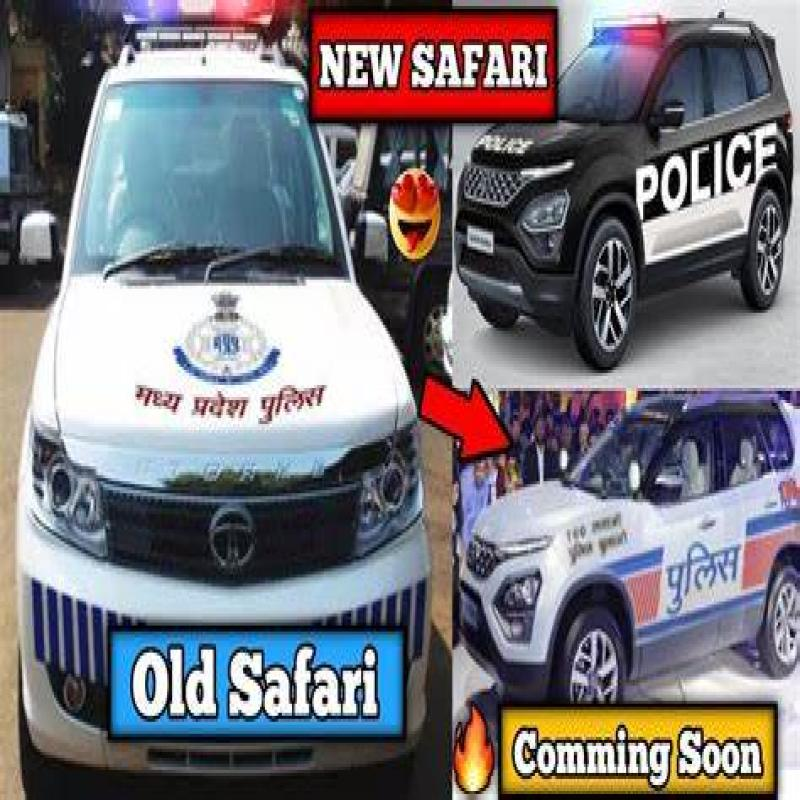AmbulanceSiren: (584, 0, 706, 85), (115, 0, 290, 54)
